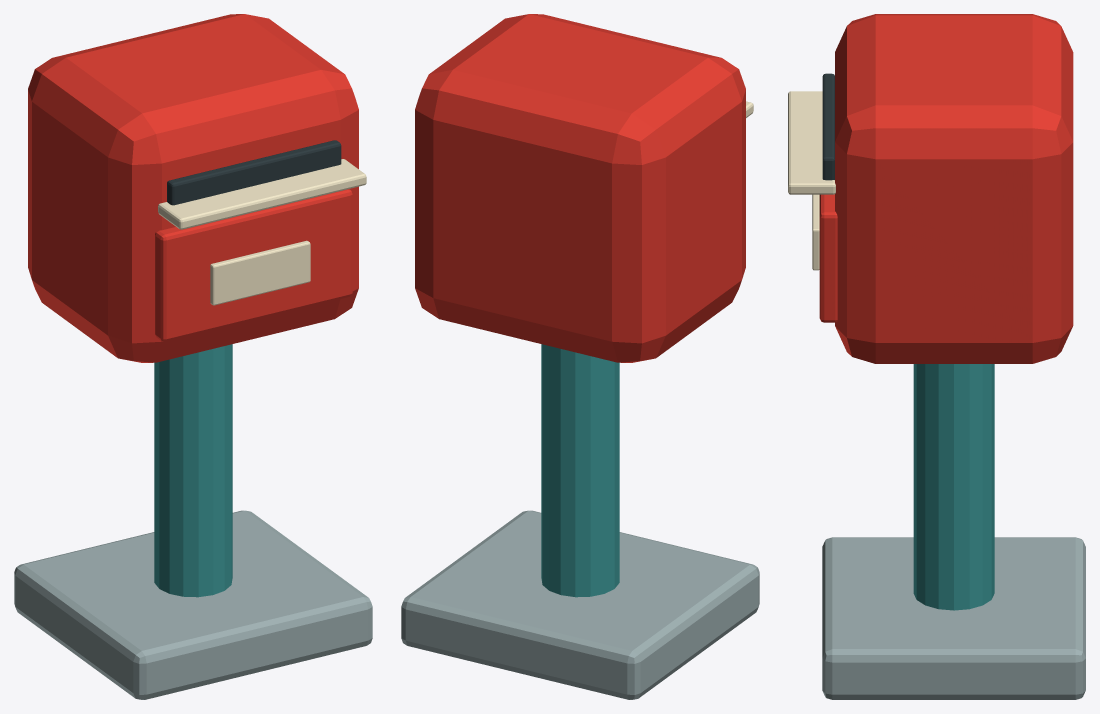
File: S057_street_mailbox.glb
The picture shows the model from 3 angles, left to right: view 1: azimuth 30°, elevation 25°; view 2: azimuth 150°, elevation 25°; view 3: azimuth 270°, elevation 25°; orthographic projection. The views are drawn at different scales.
Visible parts, largest first — view 1: mailbox_body, mail_base, mail_post, mail_retrieval, slot_lip, mail_slot, mail_label; view 2: mailbox_body, mail_base, mail_post; view 3: mailbox_body, mail_base, mail_post, slot_lip, mail_retrieval, mail_slot, mail_label.
Part boxes in pixels (x1=…): mailbox_body: x1=28, y1=14, x2=358, y2=362; mail_base: x1=14, y1=510, x2=372, y2=699; mail_post: x1=154, y1=344, x2=232, y2=597; mail_retrieval: x1=155, y1=189, x2=352, y2=341; slot_lip: x1=158, y1=159, x2=366, y2=229; mail_slot: x1=167, y1=140, x2=341, y2=205; mail_label: x1=210, y1=240, x2=310, y2=305; mailbox_body: x1=415, y1=14, x2=745, y2=362; mail_base: x1=401, y1=510, x2=759, y2=699; mail_post: x1=541, y1=344, x2=619, y2=597; mailbox_body: x1=835, y1=14, x2=1073, y2=363; mail_base: x1=822, y1=537, x2=1085, y2=699; mail_post: x1=913, y1=364, x2=994, y2=610; slot_lip: x1=788, y1=91, x2=835, y2=194; mail_retrieval: x1=819, y1=194, x2=837, y2=322; mail_slot: x1=822, y1=73, x2=834, y2=180; mail_label: x1=812, y1=194, x2=819, y2=270.
Size of the model in its own units: 0.58 by 1.27 by 0.5875.
